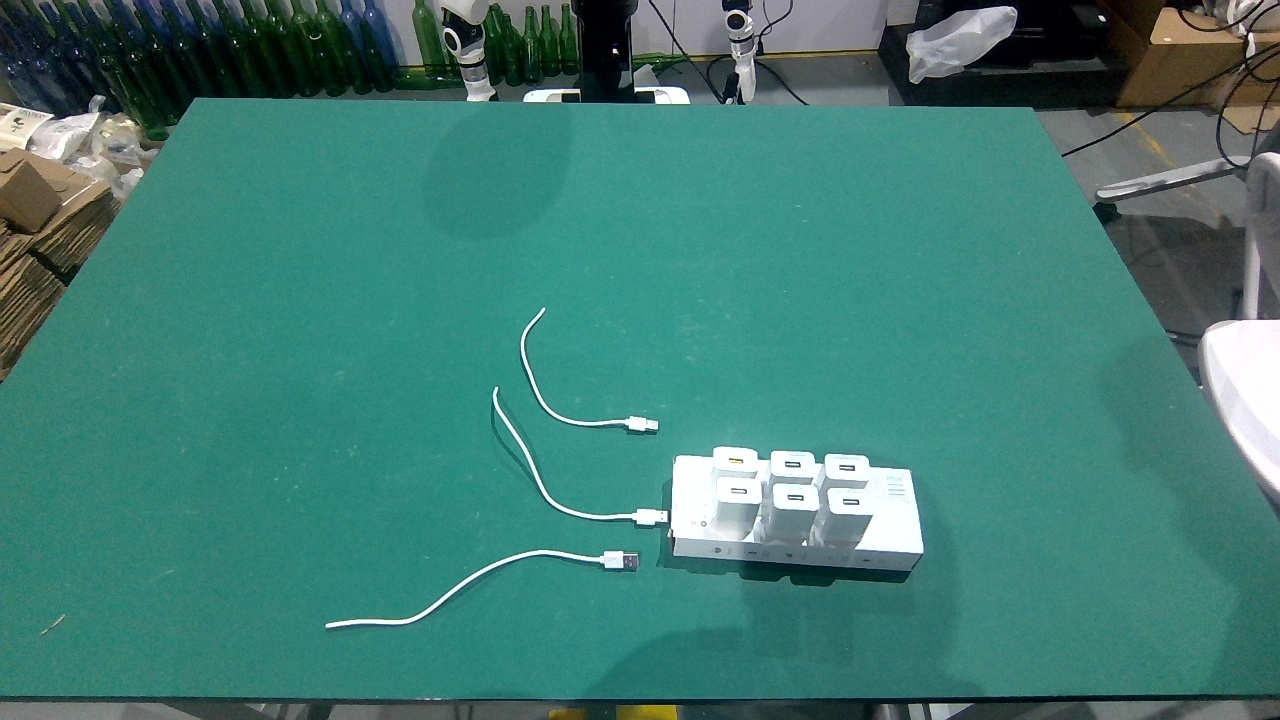usb_a_plug: (589, 551, 640, 569), (622, 508, 670, 526), (613, 414, 660, 432)
